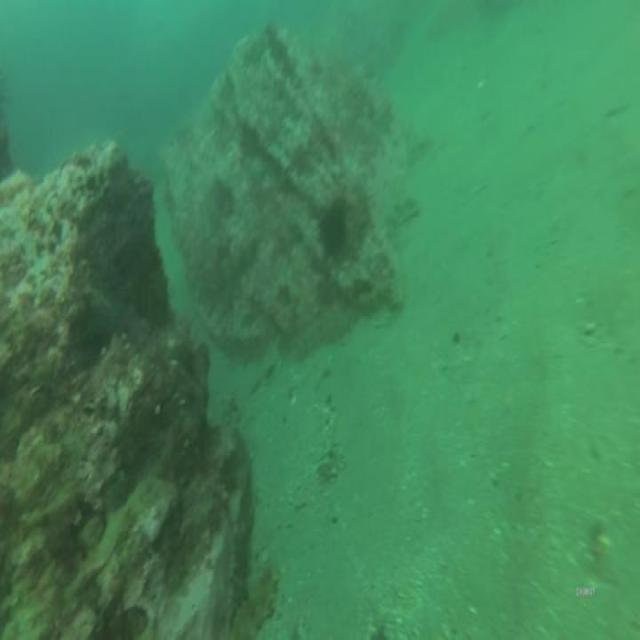echinus: (312, 190, 353, 274)
holothurian: (233, 551, 282, 640)
